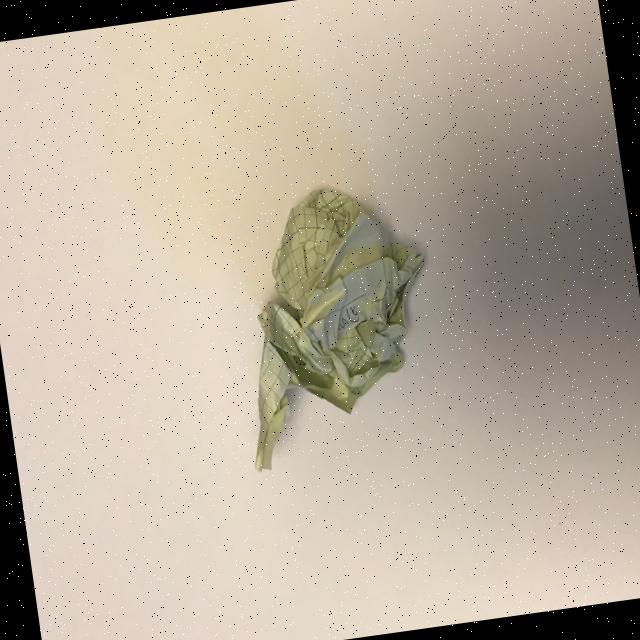paper: (217, 172, 451, 472)
